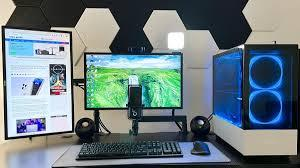keyboard: (76, 140, 183, 159)
